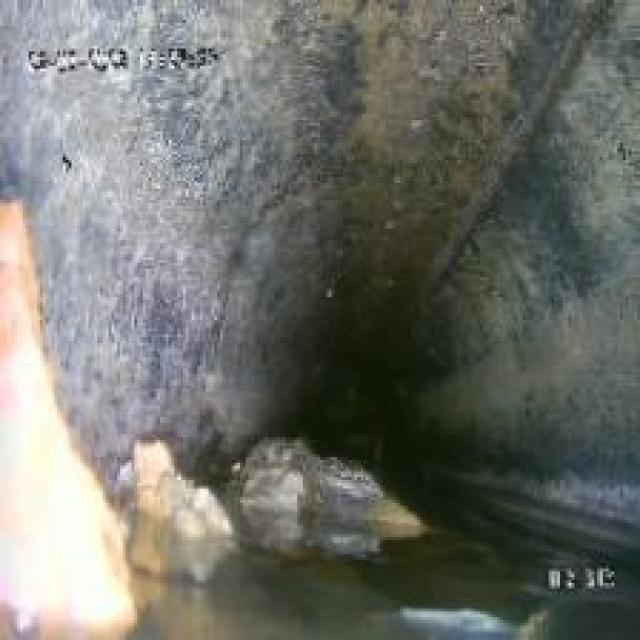stone: (111, 409, 446, 577)
